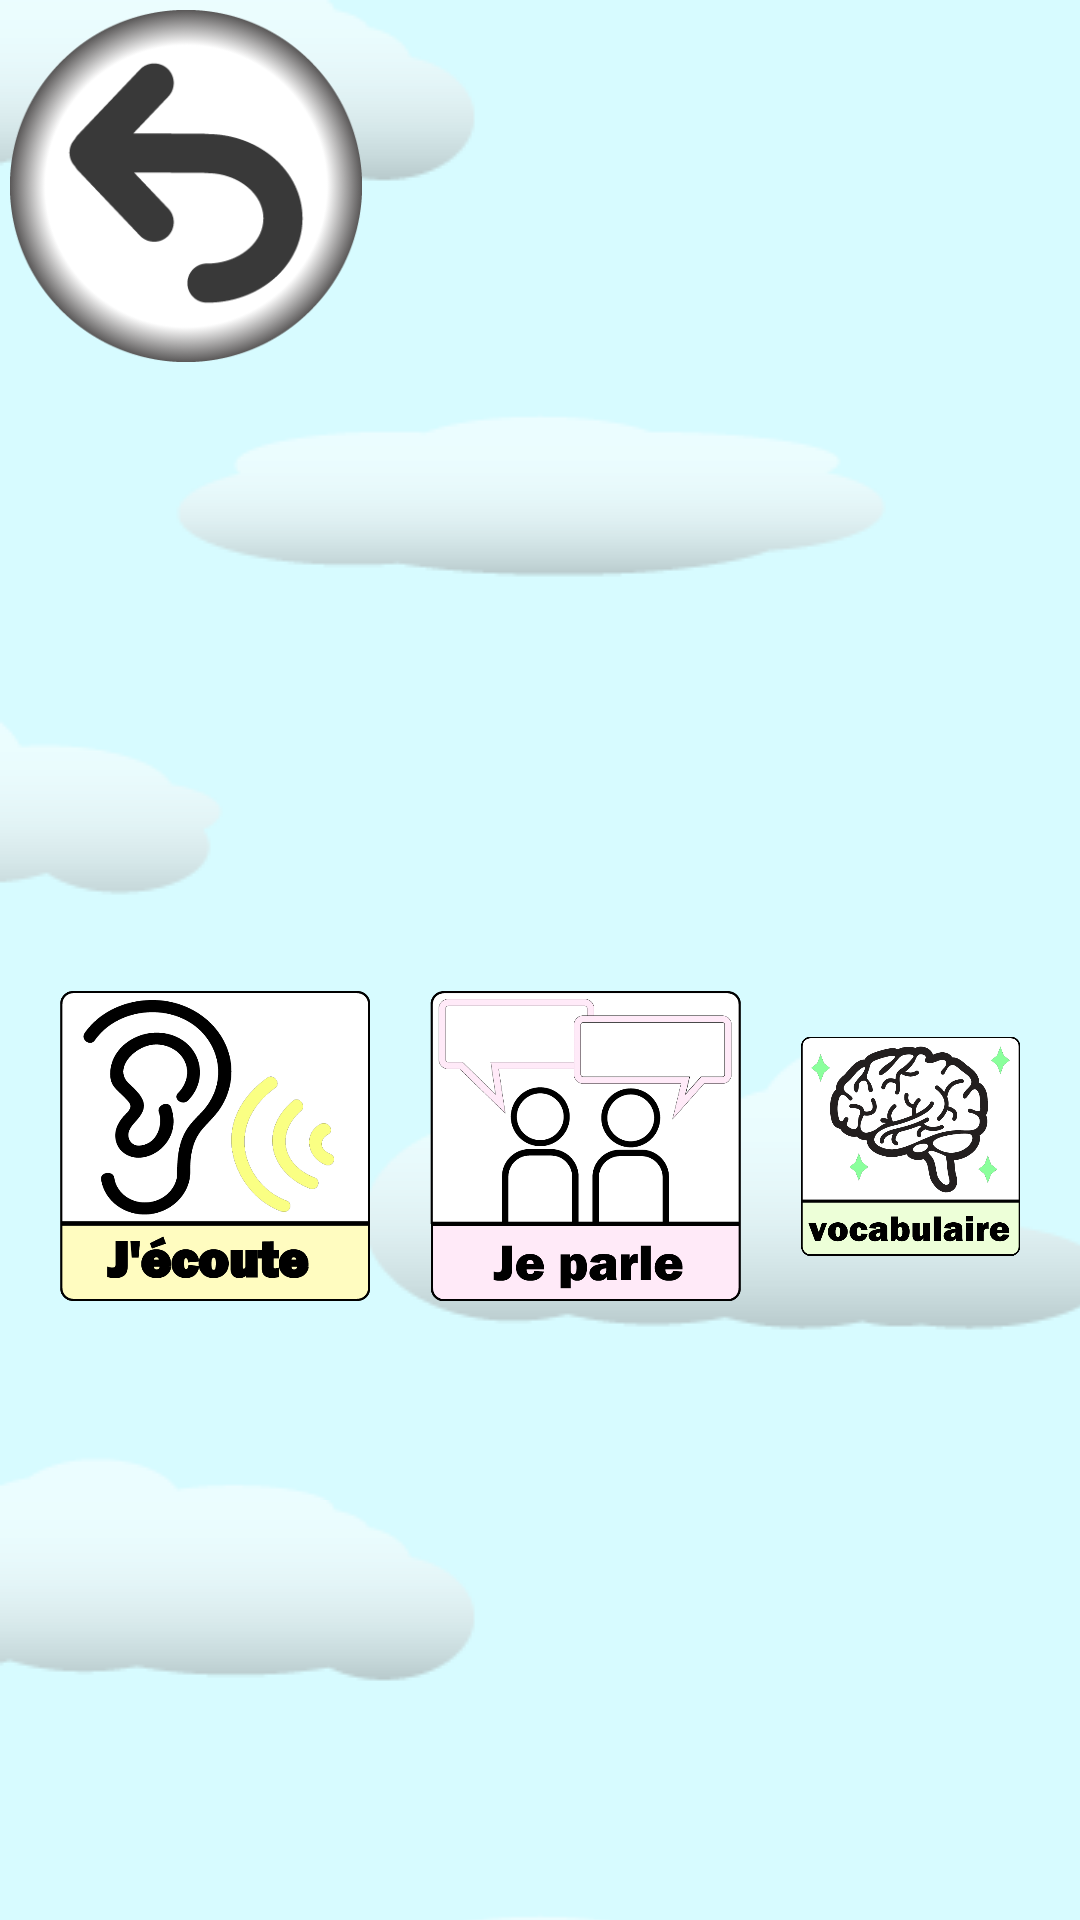

Icons on this 1080x1920 Android screen, each with its box as Rect(x1, y1, x2, y2):
return: Rect(42, 42, 330, 330)
